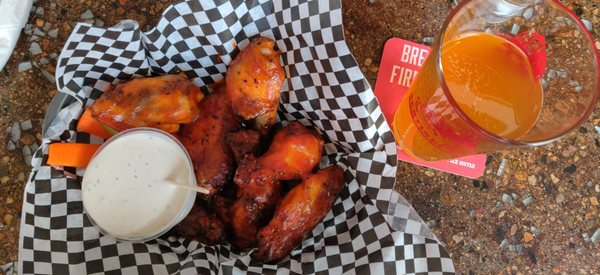sushi: (81, 126, 209, 242)
